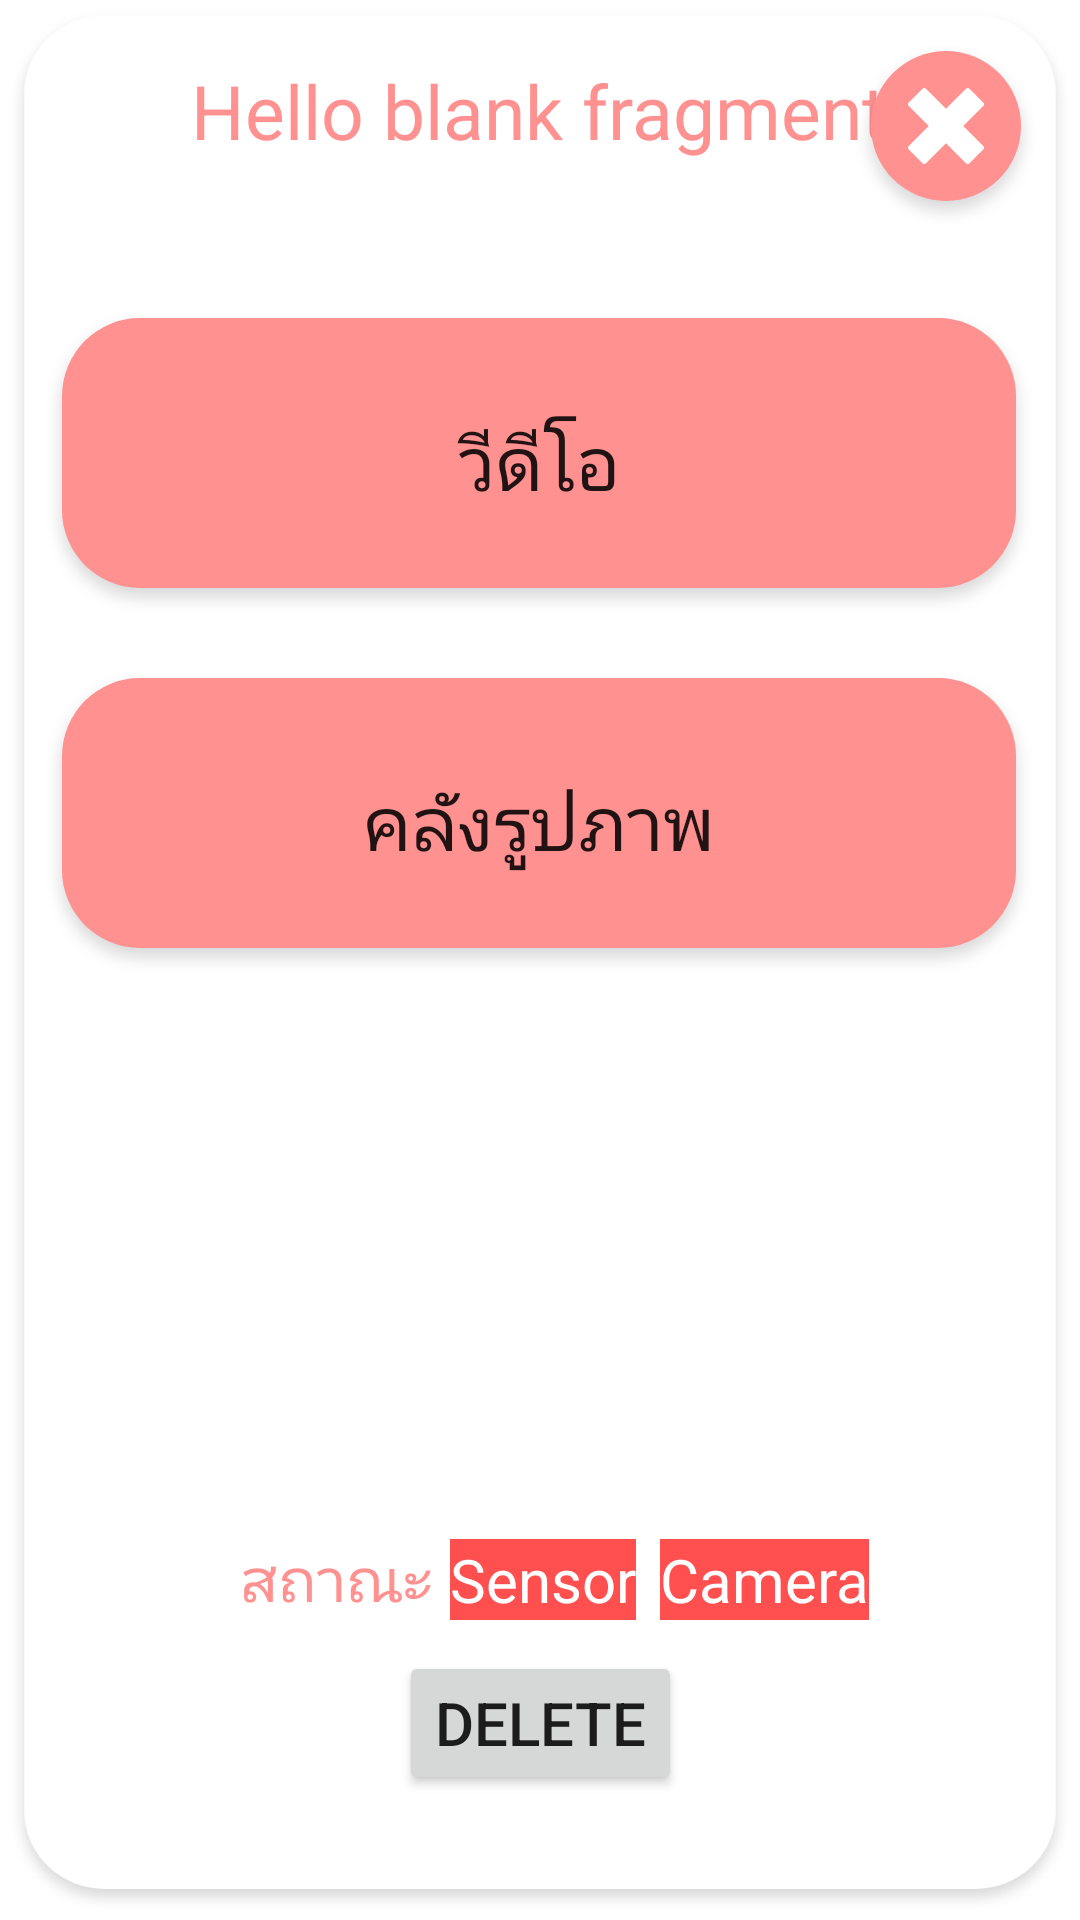

Screen size 1080w x 1920h. Icon name, then its center in pixels as (x=x, y=y):
exit: (x=941, y=129)
